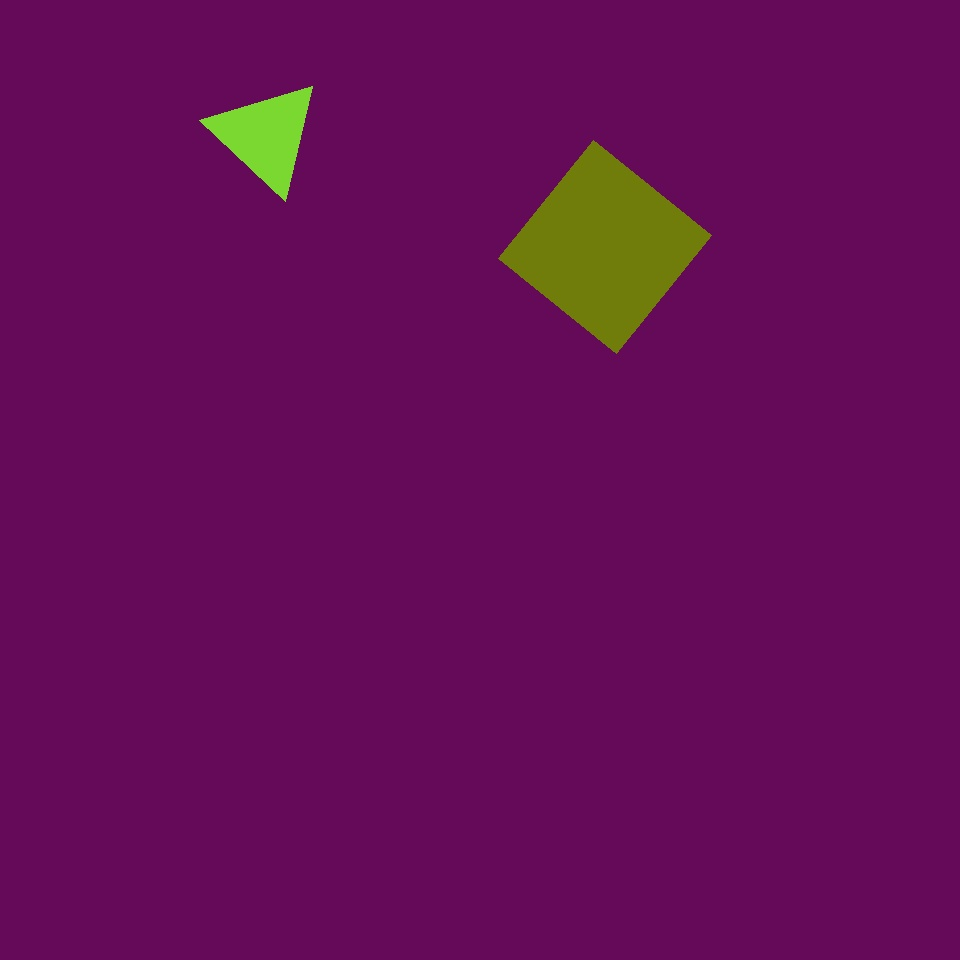circle: (604, 169, 882, 426), (210, 78, 322, 194)
square: (379, 468, 673, 761), (385, 241, 636, 492), (575, 567, 823, 815), (498, 140, 712, 353)
triangle: (661, 539, 882, 759), (37, 97, 216, 276)
